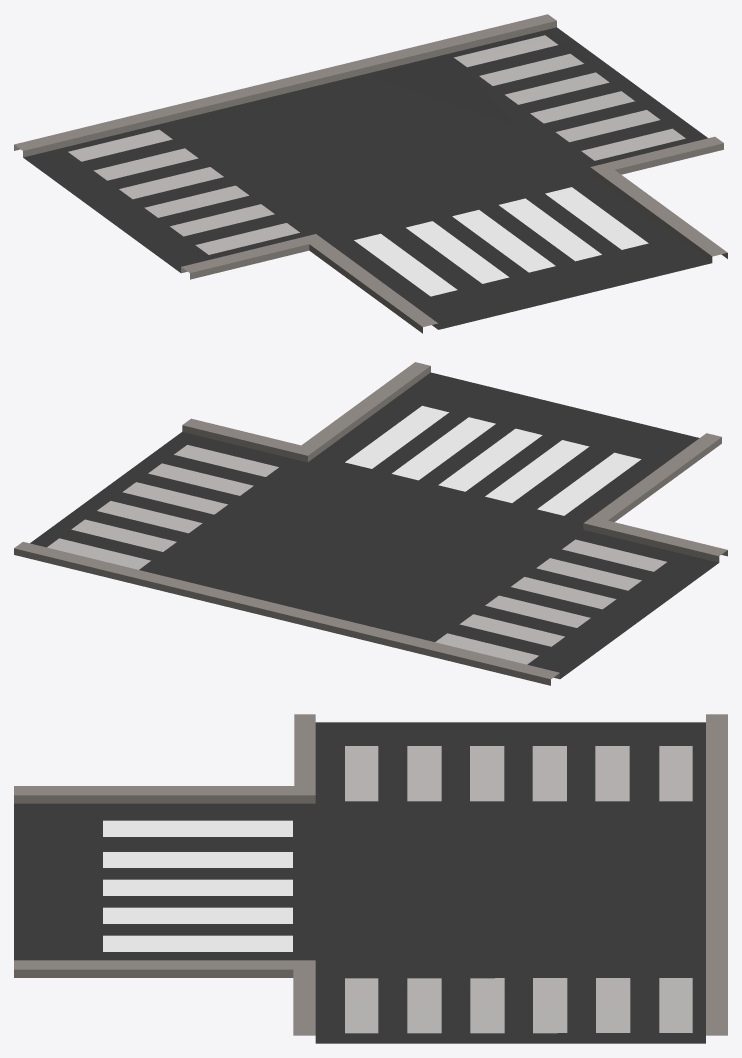
File: RoadTile_3.fbx
3 renders of one model, top to bottom at view 1: azimuth 30°, elevation 25°; view 2: azimuth 150°, elevation 25°; view 3: azimuth 270°, elevation 25°, orthographic. The views are drawn at different scales.
Visible parts, largest first — view 1: RoadTile_3; view 2: RoadTile_3; view 3: RoadTile_3.
Part boxes in pixels (x1,y1,x2,y2): RoadTile_3: [14, 14, 727, 333]; RoadTile_3: [14, 362, 727, 685]; RoadTile_3: [14, 714, 727, 1043].
Bounding box in the file's own units: 1025 × 12 × 962.
